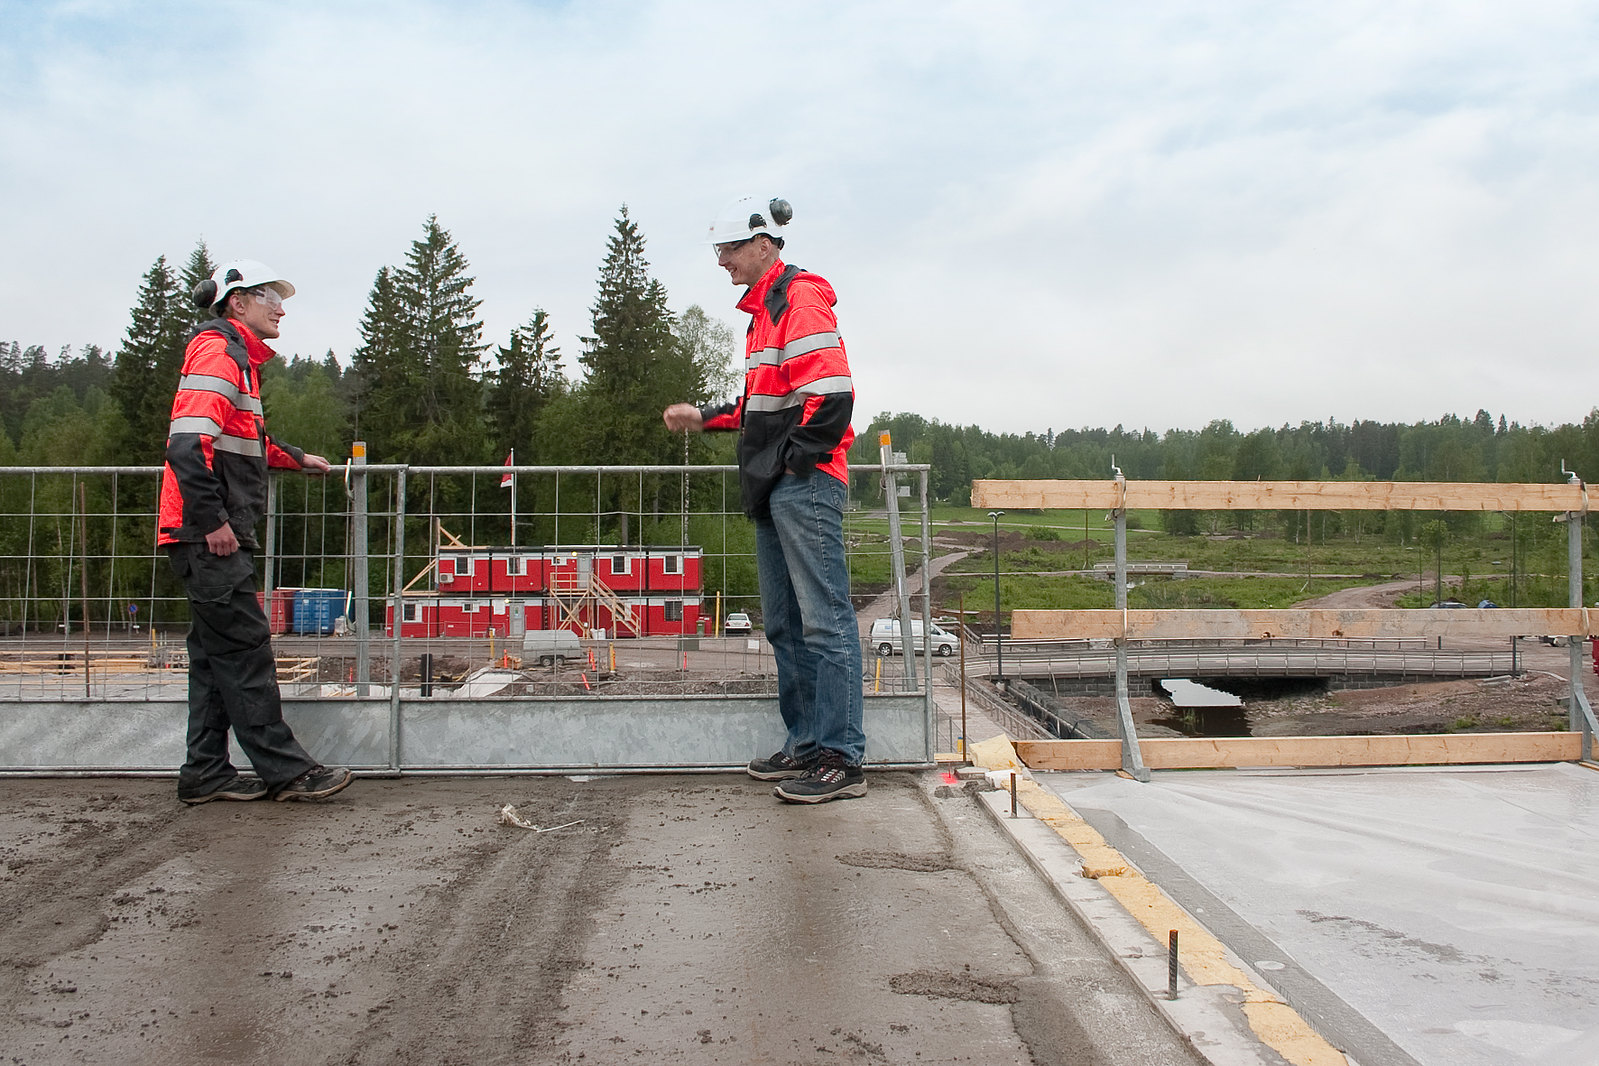Helmet: (700, 190, 805, 305), (202, 249, 307, 353)
Reflective vest: (163, 313, 278, 554), (730, 275, 857, 482)
